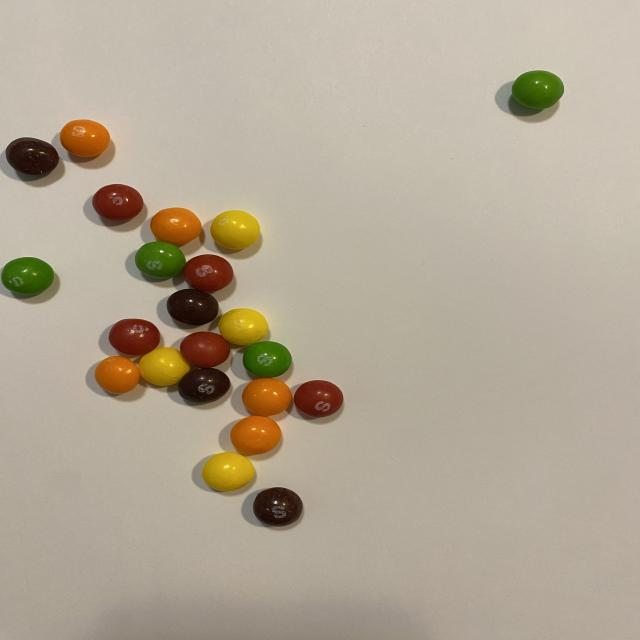smartie: (166, 287, 219, 326), (210, 211, 262, 249), (1, 258, 53, 296), (110, 318, 162, 356), (239, 342, 292, 379), (89, 357, 142, 394), (183, 253, 234, 291), (62, 119, 113, 157), (293, 380, 343, 418), (203, 453, 254, 490), (134, 241, 184, 278), (231, 417, 281, 454), (92, 183, 143, 219), (176, 368, 228, 403), (7, 136, 56, 173), (218, 309, 268, 345), (255, 489, 303, 526), (141, 348, 190, 384), (245, 381, 294, 417), (153, 208, 203, 243), (514, 70, 562, 106), (183, 331, 231, 367)
